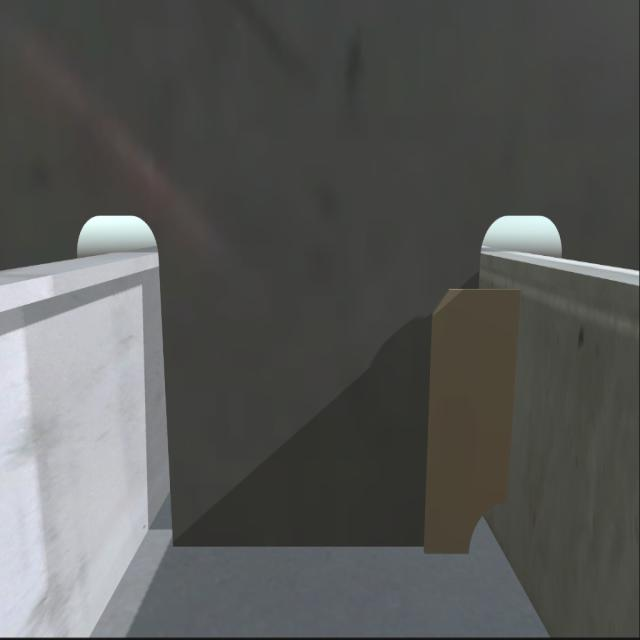fillet_hole: (468, 502, 512, 561)
fillet_yong_jeop_jang: (158, 530, 470, 556)
longi_yong_jeop_jang: (503, 282, 524, 506)
plate_CP03: (420, 288, 512, 559)
